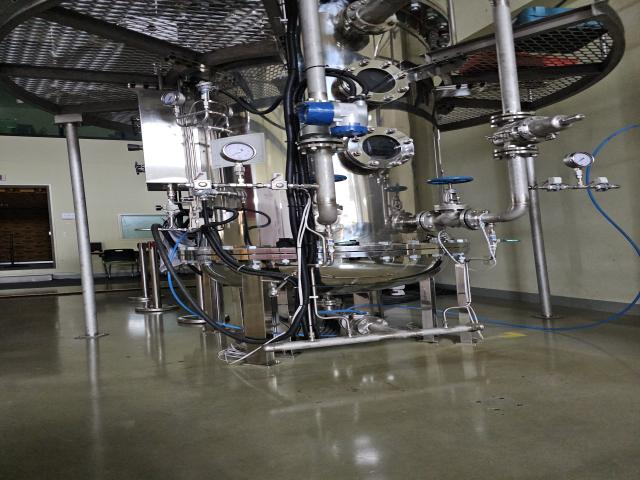Flange: (338, 58, 410, 105), (342, 126, 416, 170)
Flush Ring: (345, 0, 399, 34), (302, 206, 350, 234), (459, 207, 497, 230), (295, 138, 349, 154), (416, 209, 451, 233), (355, 316, 392, 338), (491, 144, 541, 160), (491, 111, 538, 128)
GasRegulator: (162, 80, 235, 135)
Nuts: (187, 178, 218, 191), (267, 179, 292, 192), (544, 182, 569, 192), (592, 182, 615, 192)
Piston Valve: (424, 176, 477, 211), (307, 174, 348, 209)
Pressure Gage: (220, 140, 257, 184), (562, 150, 596, 184)
